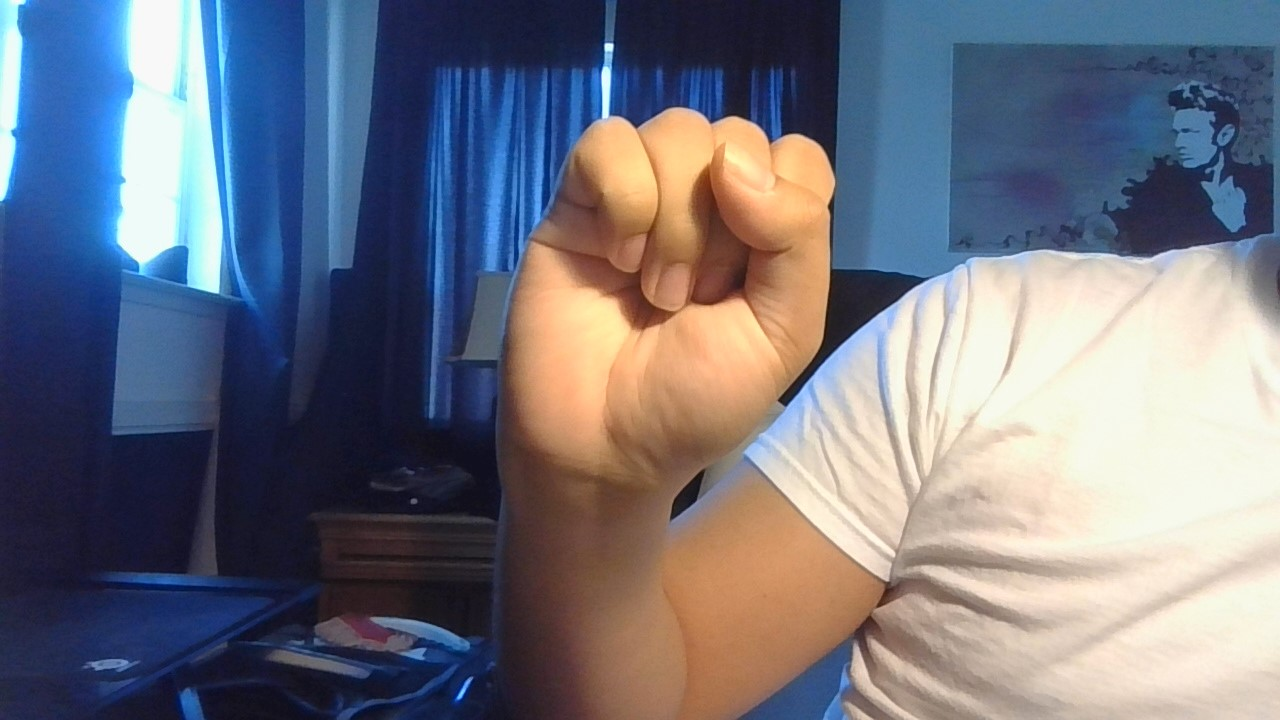s: (452, 96, 860, 504)
